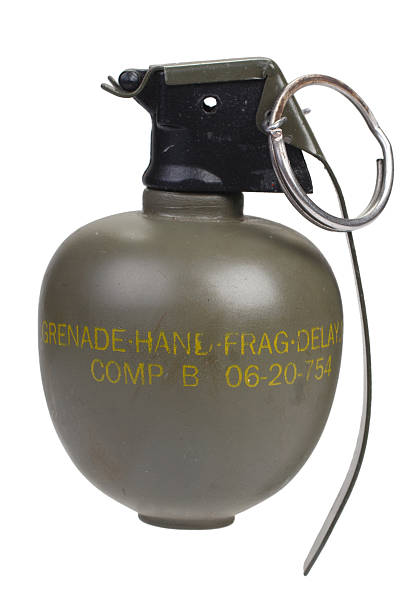e1: (14, 54, 394, 581)
